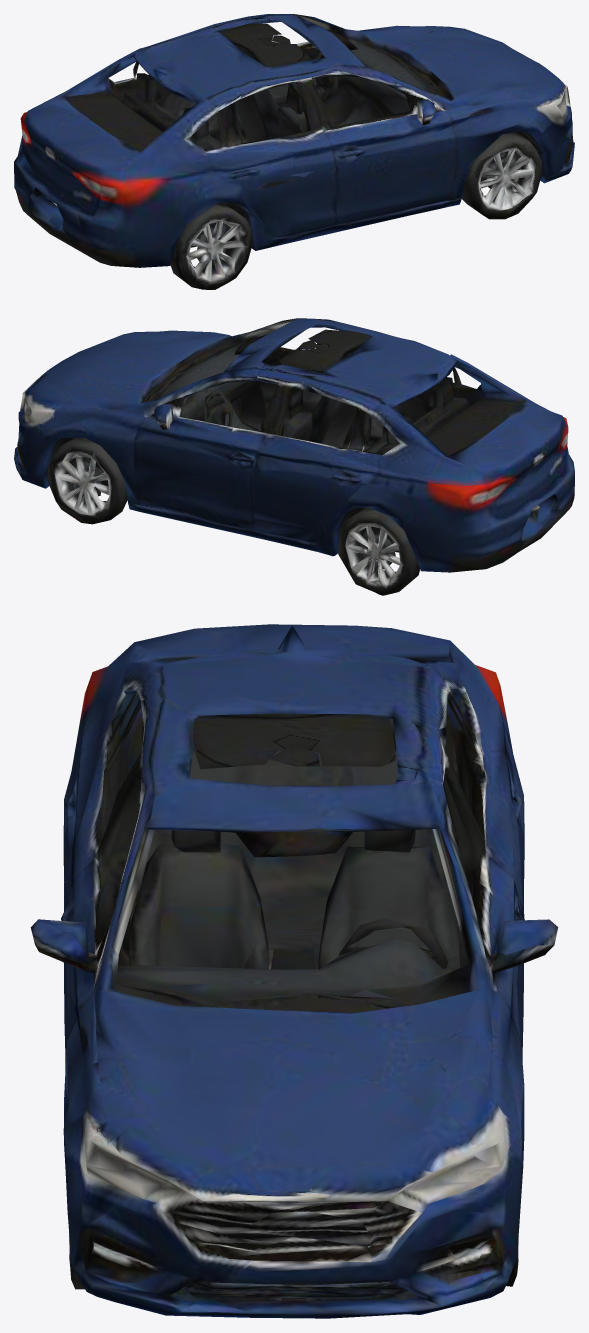
File: carro-sedan.glb
The picture shows the model from 3 angles, top to bottom: view 1: azimuth 30°, elevation 25°; view 2: azimuth 150°, elevation 25°; view 3: azimuth 270°, elevation 25°; orthographic projection. The views are drawn at different scales.
Visible parts, largest first — view 1: tripo_node_71dd1605-b39a-4a78-b983-ce7fc2a293ec; view 2: tripo_node_71dd1605-b39a-4a78-b983-ce7fc2a293ec; view 3: tripo_node_71dd1605-b39a-4a78-b983-ce7fc2a293ec.
Part boxes in pixels (<box>): tripo_node_71dd1605-b39a-4a78-b983-ce7fc2a293ec: <box>14,14,574,289</box>; tripo_node_71dd1605-b39a-4a78-b983-ce7fc2a293ec: <box>14,318,574,595</box>; tripo_node_71dd1605-b39a-4a78-b983-ce7fc2a293ec: <box>30,624,558,1318</box>.
Size of the model in its own units: 2.87 by 0.9999 by 1.3.
Materials: 1 (1 with a texture image).
